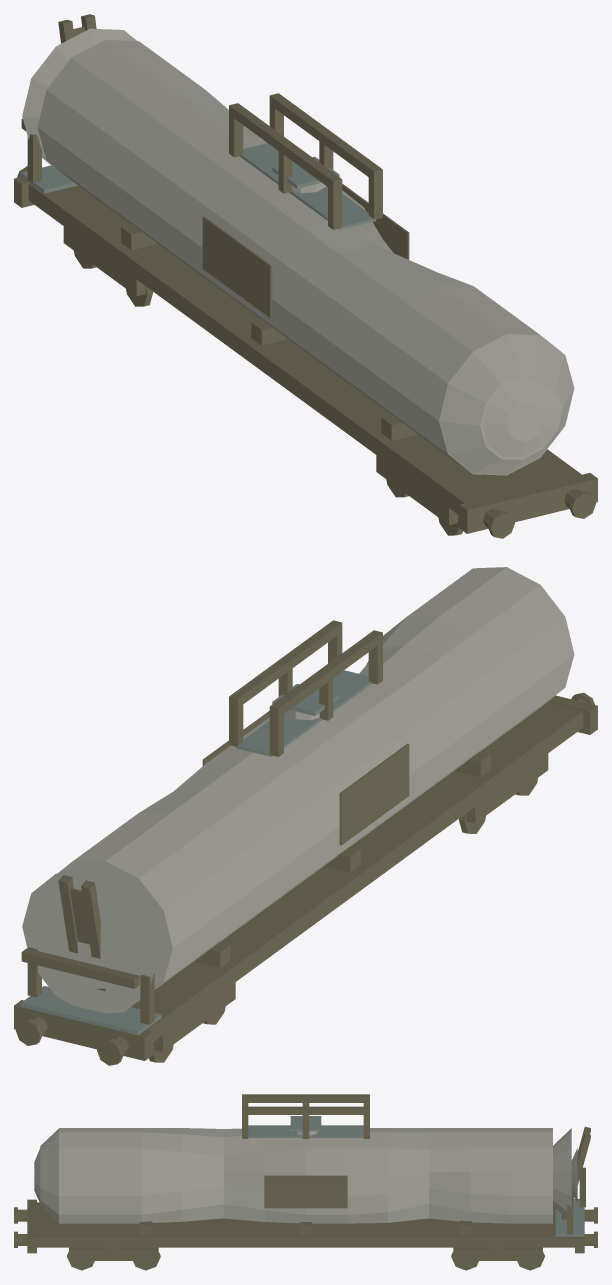
File: SM_VagonCisterna_v3_Abollada_LOD1.fbx
3 renders of one model, top to bottom at view 1: azimuth 30°, elevation 25°; view 2: azimuth 150°, elevation 25°; view 3: azimuth 270°, elevation 25°, orthographic. The views are drawn at different scales.
Parts seen in each view (by area): view 1: SM_bloques.vagon_cisterna_v3_LOD1; view 2: SM_bloques.vagon_cisterna_v3_LOD1; view 3: SM_bloques.vagon_cisterna_v3_LOD1.
Part boxes in pixels (box(x1,y1,x2,y2)): SM_bloques.vagon_cisterna_v3_LOD1: box(14, 14, 597, 538); SM_bloques.vagon_cisterna_v3_LOD1: box(14, 567, 597, 1065); SM_bloques.vagon_cisterna_v3_LOD1: box(14, 1094, 597, 1270).
Size of the model in its own units: 3.08 by 5.4 by 18.24.
